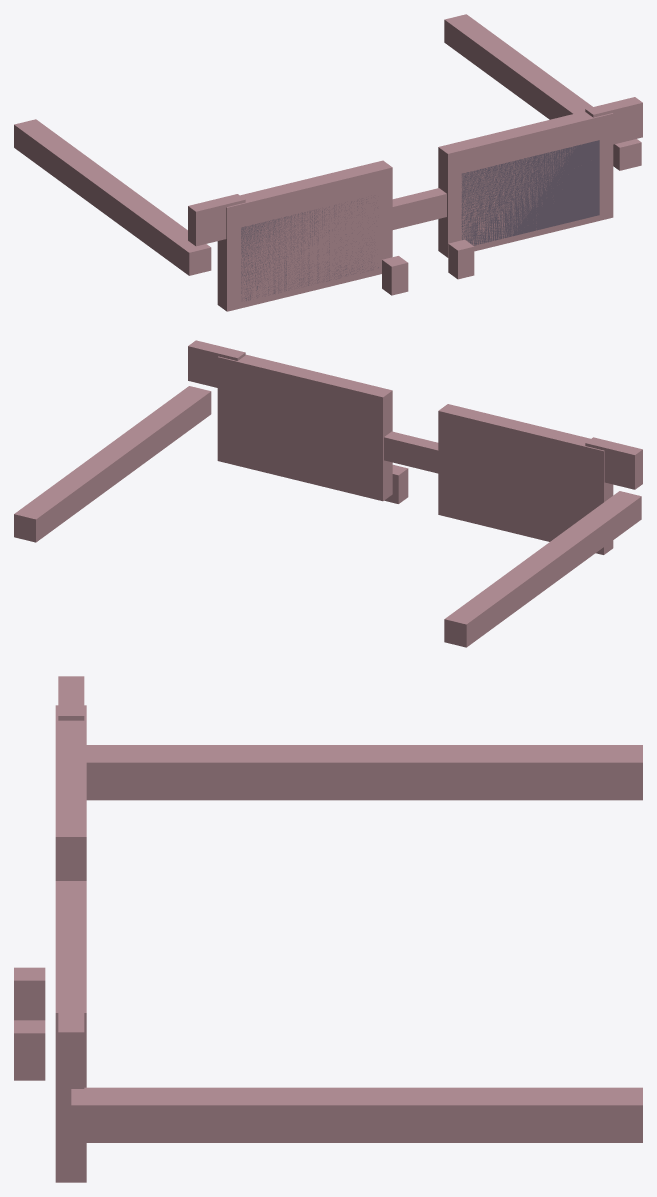
The model's file is cateye.glb.
The picture shows the model from 3 angles, top to bottom: view 1: azimuth 30°, elevation 25°; view 2: azimuth 150°, elevation 25°; view 3: azimuth 270°, elevation 25°; orthographic projection. The views are drawn at different scales.
Parts seen in each view (by area): view 1: cateye-rose; view 2: cateye-rose; view 3: cateye-rose.
Boxes of the visible parts, <box> form: cateye-rose: <box>14,14,642,311</box>; cateye-rose: <box>14,340,642,647</box>; cateye-rose: <box>14,676,642,1182</box>.
Size of the model in its own units: 1.64 by 0.41 by 1.21.
